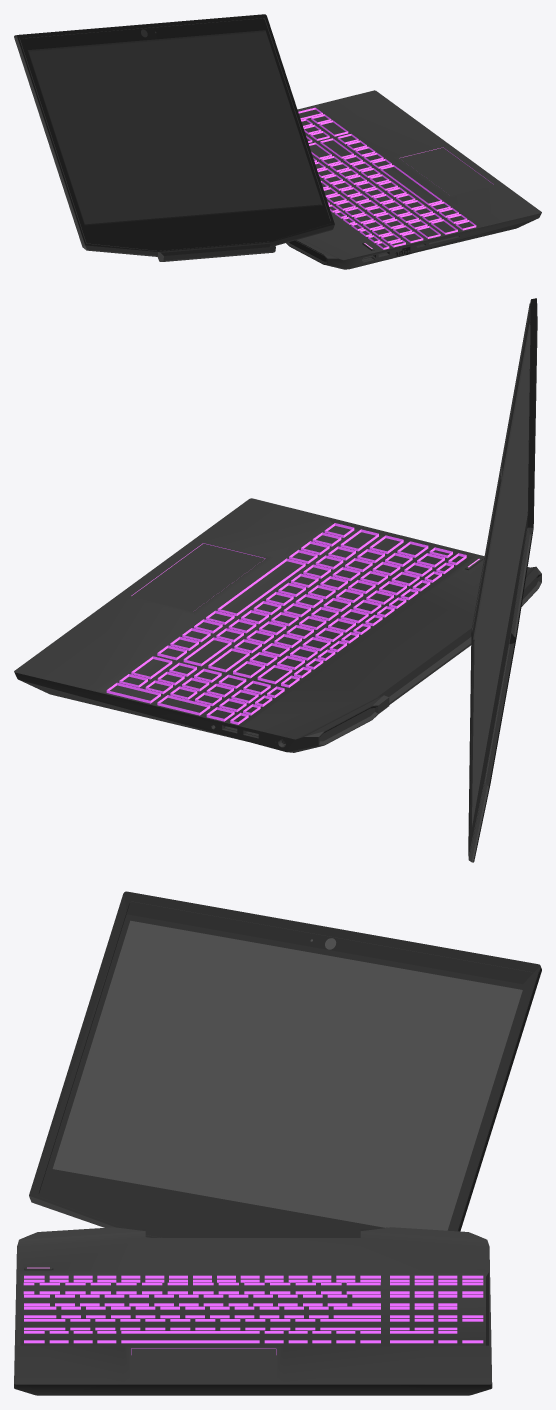
Rendered from laptop.glb.
3 views of the same model, one above another, from view 1: azimuth 30°, elevation 25°; view 2: azimuth 150°, elevation 25°; view 3: azimuth 270°, elevation 25° (orthographic). The views are drawn at different scales.
Parts seen in each view (by area): view 1: Laptop.001_1, Laptop_0; view 2: Laptop_0, Laptop.001_1; view 3: Laptop.001_1, Laptop_0.
Boxes of the visible parts, x1,y1,x2,y2 form: Laptop.001_1: (14, 14, 334, 261); Laptop_0: (286, 90, 541, 269); Laptop_0: (14, 498, 541, 752); Laptop.001_1: (468, 298, 537, 862); Laptop.001_1: (29, 891, 541, 1237); Laptop_0: (14, 1227, 492, 1395).
Size of the model in its own units: 2.95 by 2.46 by 2.75.
